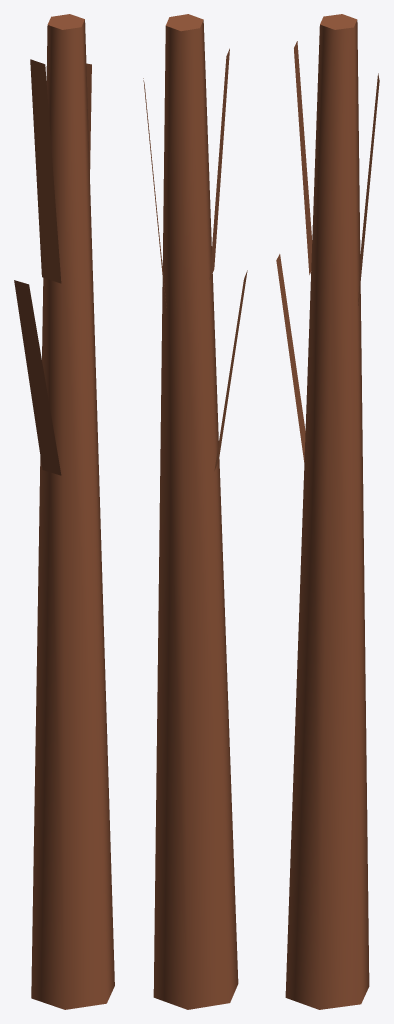
File: cozy_lake_tree_bare_01.glb
3 renders of one model, left to right at view 1: azimuth 30°, elevation 25°; view 2: azimuth 150°, elevation 25°; view 3: azimuth 330°, elevation 25°, orthographic.
Parts seen in each view (by area): view 1: Tree_Bare_01; view 2: Tree_Bare_01; view 3: Tree_Bare_01.
Boxes of the visible parts, x1=… form: Tree_Bare_01: x1=14, y1=14, x2=114, y2=1009; Tree_Bare_01: x1=143, y1=14, x2=247, y2=1009; Tree_Bare_01: x1=276, y1=14, x2=379, y2=1009.
Bounding box in the file's own units: 6.55 × 66.33 × 5.71.
